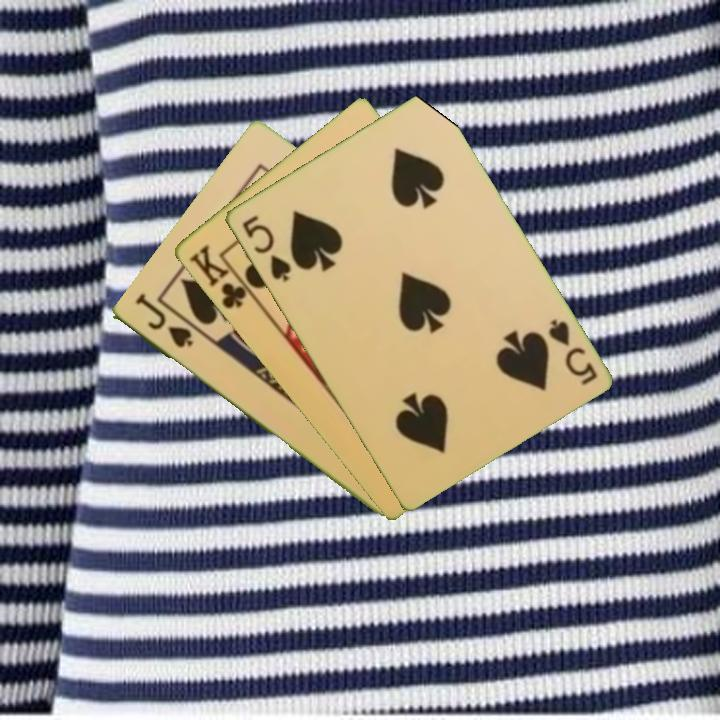5s: (238, 211, 294, 285), (544, 315, 600, 388)
Js: (131, 292, 196, 351)
Kc: (185, 241, 257, 312)
